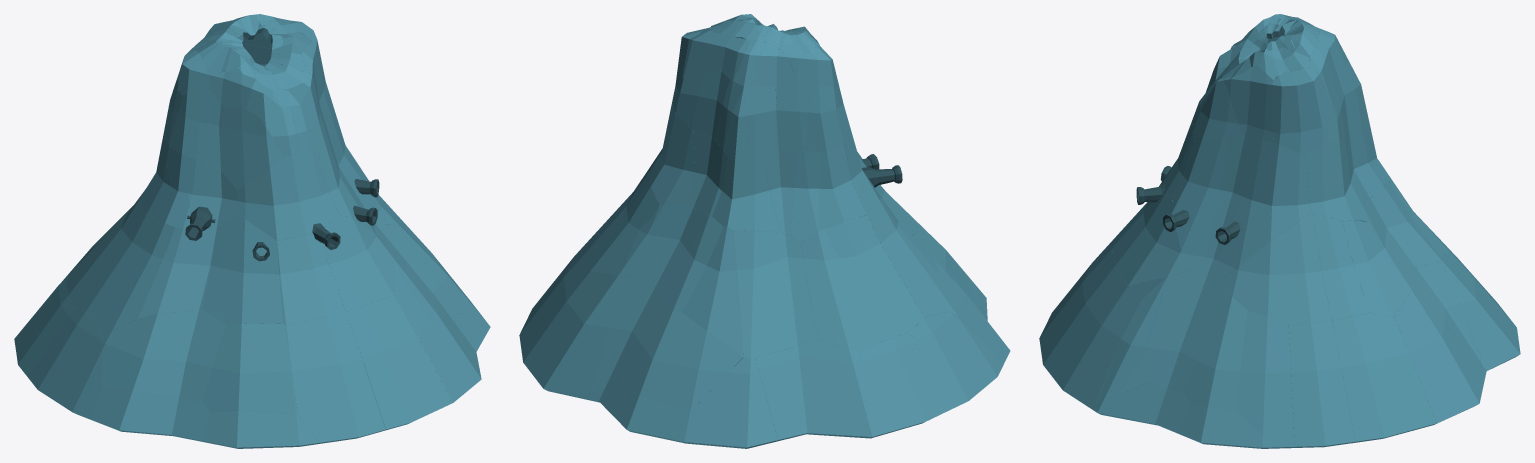
The model's file is volcano_paper_cells.fbx.
The picture shows the model from 3 angles, left to right: view 1: azimuth 30°, elevation 25°; view 2: azimuth 150°, elevation 25°; view 3: azimuth 270°, elevation 25°; orthographic projection. The views are drawn at different scales.
Visible parts, largest first — view 1: VolcanoPhase01.001_cell.040, VolcanoPhase01.001_cell.071, VolcanoPhase01.001_cell.097, VolcanoPhase01.001_cell.017, VolcanoPhase01.001_cell.056, VolcanoPhase01.001_cell.057, VolcanoPhase01.001_cell.072, VolcanoPhase01.001_cell.038, VolcanoPhase01.001_cell.003, VolcanoPhase01.001_cell.015, VolcanoPhase01.001_cell.067, VolcanoPhase01.001_cell.036 (+27 smaller); view 2: VolcanoPhase01.001_cell.024, VolcanoPhase01.001_cell.006, VolcanoPhase01.001_cell.045, VolcanoPhase01.001_cell.095, VolcanoPhase01.001_cell.064, VolcanoPhase01.001_cell.016, VolcanoPhase01.001_cell.014, VolcanoPhase01.001_cell.072, VolcanoPhase01.001_cell.062, VolcanoPhase01.001_cell.066, VolcanoPhase01.001_cell.007, VolcanoPhase01.001_cell.075 (+31 smaller); view 3: VolcanoPhase01.001_cell.086, VolcanoPhase01.001_cell.082, VolcanoPhase01.001_cell.089, VolcanoPhase01.001_cell.084, VolcanoPhase01.001_cell.095, VolcanoPhase01.001_cell.032, VolcanoPhase01.001_cell.085, VolcanoPhase01.001_cell.033, VolcanoPhase01.001_cell.090, VolcanoPhase01.001_cell.011, VolcanoPhase01.001_cell.097, VolcanoPhase01.001_cell.080 (+28 smaller).
Boxes of the visible parts, <box> form: VolcanoPhase01.001_cell.040: <box>286,313,385,443</box>; VolcanoPhase01.001_cell.071: <box>102,309,225,401</box>; VolcanoPhase01.001_cell.097: <box>346,295,451,430</box>; VolcanoPhase01.001_cell.017: <box>203,323,297,414</box>; VolcanoPhase01.001_cell.056: <box>202,213,282,324</box>; VolcanoPhase01.001_cell.057: <box>235,153,338,240</box>; VolcanoPhase01.001_cell.072: <box>28,307,102,420</box>; VolcanoPhase01.001_cell.038: <box>87,214,174,335</box>; VolcanoPhase01.001_cell.003: <box>323,214,394,312</box>; VolcanoPhase01.001_cell.015: <box>277,233,346,325</box>; VolcanoPhase01.001_cell.067: <box>91,387,210,442</box>; VolcanoPhase01.001_cell.036: <box>137,227,217,318</box>; VolcanoPhase01.001_cell.024: <box>755,340,870,441</box>; VolcanoPhase01.001_cell.006: <box>733,230,817,357</box>; VolcanoPhase01.001_cell.045: <box>609,309,743,410</box>; VolcanoPhase01.001_cell.095: <box>523,271,622,399</box>; VolcanoPhase01.001_cell.064: <box>824,215,916,350</box>; VolcanoPhase01.001_cell.016: <box>858,332,947,438</box>; VolcanoPhase01.001_cell.014: <box>685,357,777,448</box>; VolcanoPhase01.001_cell.072: <box>910,311,1002,411</box>; VolcanoPhase01.001_cell.062: <box>801,222,923,345</box>; VolcanoPhase01.001_cell.066: <box>593,274,671,392</box>; VolcanoPhase01.001_cell.007: <box>682,226,743,356</box>; VolcanoPhase01.001_cell.075: <box>712,154,780,232</box>; VolcanoPhase01.001_cell.086: <box>1332,313,1436,442</box>; VolcanoPhase01.001_cell.082: <box>1222,213,1331,324</box>; VolcanoPhase01.001_cell.089: <box>1212,140,1310,279</box>; VolcanoPhase01.001_cell.084: <box>1288,321,1355,447</box>; VolcanoPhase01.001_cell.095: <box>1394,287,1484,424</box>; VolcanoPhase01.001_cell.032: <box>1236,310,1294,448</box>; VolcanoPhase01.001_cell.085: <box>1149,270,1230,392</box>; VolcanoPhase01.001_cell.033: <box>1062,277,1170,407</box>; VolcanoPhase01.001_cell.090: <box>1172,138,1226,271</box>; VolcanoPhase01.001_cell.011: <box>1183,296,1247,410</box>; VolcanoPhase01.001_cell.097: <box>1041,258,1127,389</box>; VolcanoPhase01.001_cell.080: <box>1272,68,1331,154</box>.
Bounding box in the file's own units: 1896 × 1423 × 1896.
